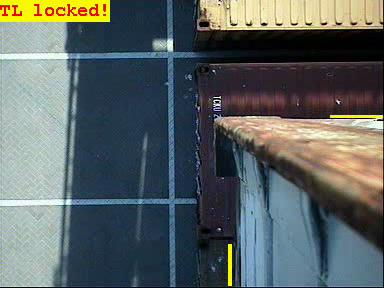groundmarker_2: (1, 25, 124, 120)
